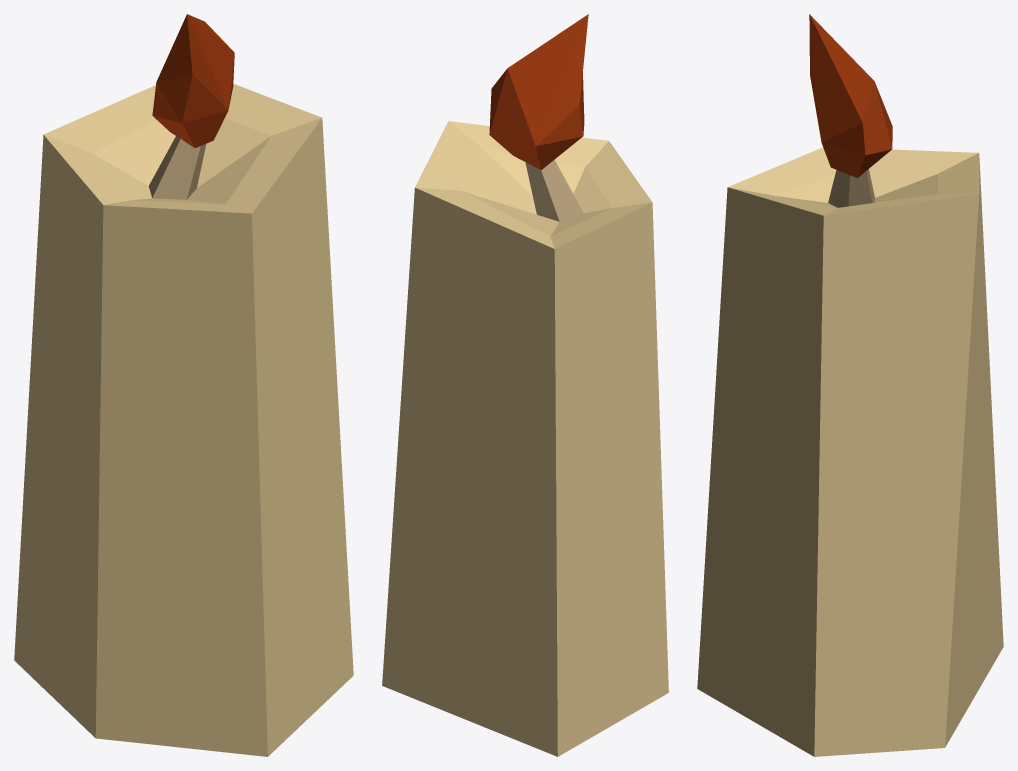
Rendered from SM_SM_Candle_02.fbx.
3 renders of one model, left to right at view 1: azimuth 30°, elevation 25°; view 2: azimuth 150°, elevation 25°; view 3: azimuth 270°, elevation 25°, orthographic. The views are drawn at different scales.
Parts seen in each view (by area): view 1: SM_Candle_02; view 2: SM_Candle_02; view 3: SM_Candle_02.
Boxes of the visible parts, <box> form: SM_Candle_02: <box>14,14,353,756</box>; SM_Candle_02: <box>382,14,668,756</box>; SM_Candle_02: <box>697,14,1003,756</box>.
Bounding box in the file's own units: 13.99 × 36.5 × 15.24.
